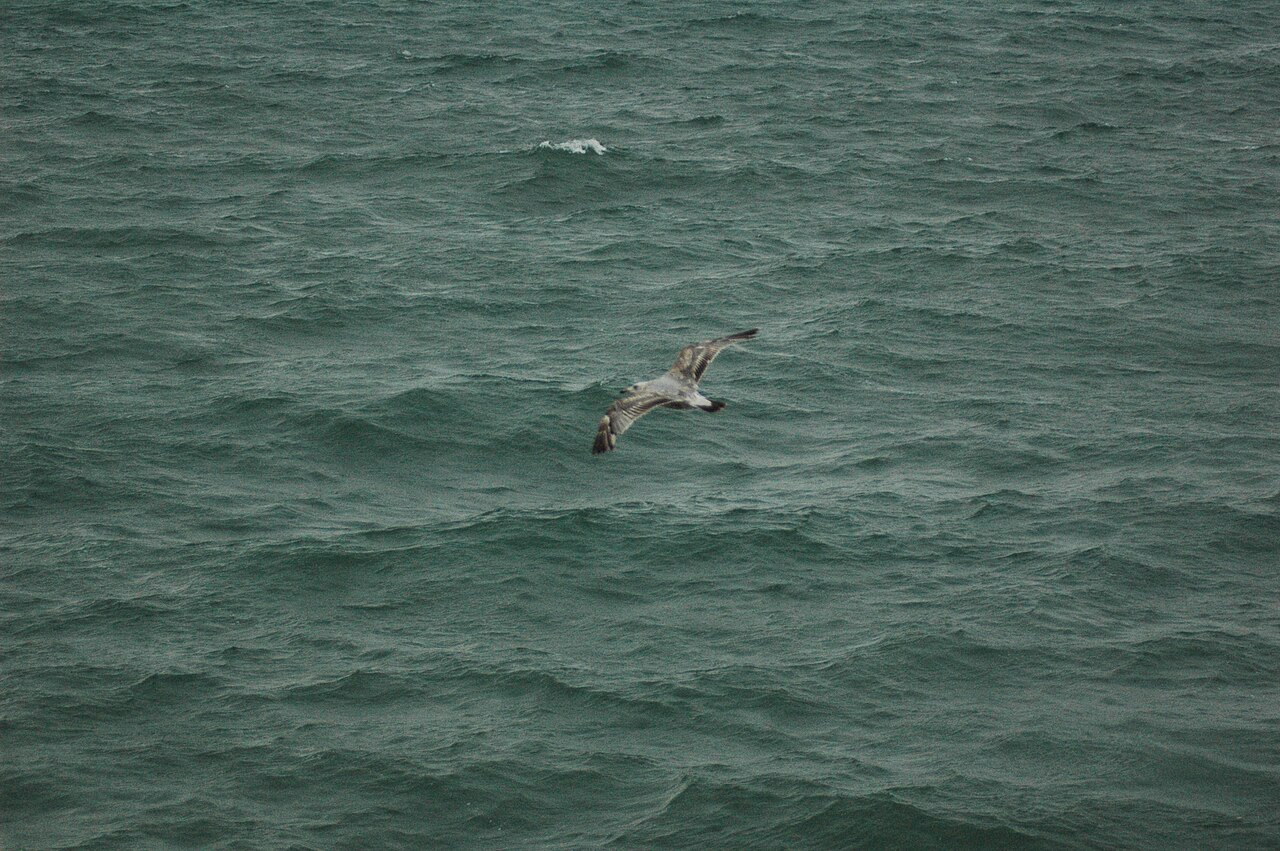bird: (589, 327, 758, 453)
